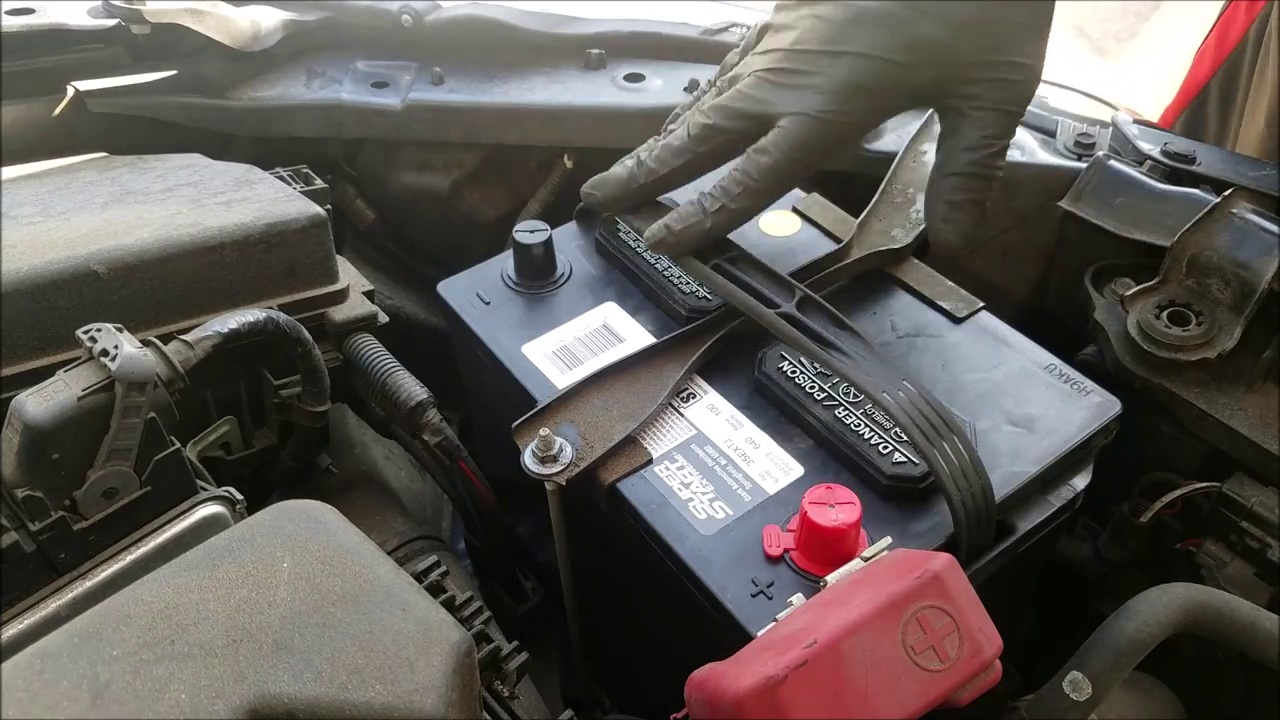battery: (442, 162, 1122, 636)
pos_disconnected: (729, 487, 977, 720)
